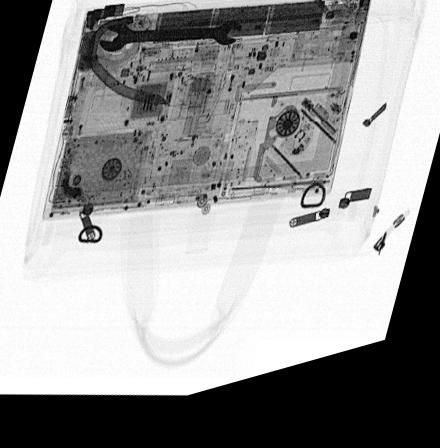Wrench: (96, 27, 243, 58)
